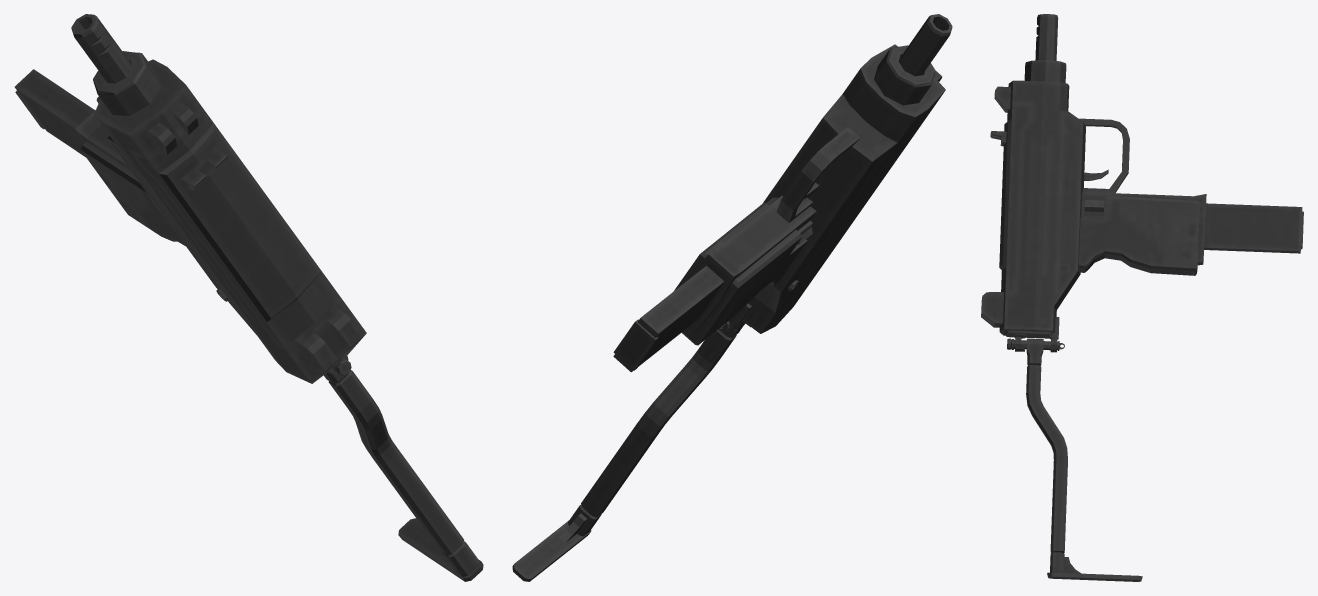
Rendered from swat-uzi.glb.
The picture shows the model from 3 angles, left to right: view 1: azimuth 30°, elevation 25°; view 2: azimuth 150°, elevation 25°; view 3: azimuth 270°, elevation 25°; orthographic projection. The views are drawn at different scales.
Parts seen in each view (by area): view 1: geometry_0; view 2: geometry_0; view 3: geometry_0.
Boxes of the visible parts, left/top/right/bottom form: geometry_0: left=14, top=14, right=483, bottom=581; geometry_0: left=512, top=14, right=952, bottom=581; geometry_0: left=981, top=14, right=1303, bottom=581.
Size of the model in its own units: 0.3268 by 0.5014 by 0.3294.
Materials: 1 (1 with a texture image).
